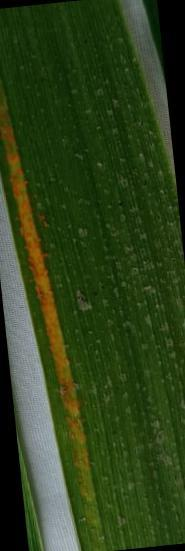Wheat: (1, 91, 119, 519)
